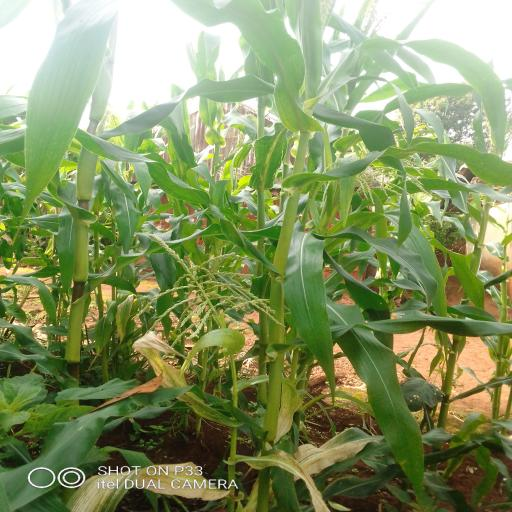Corn_Streak: (121, 334, 242, 420), (233, 432, 376, 503)
